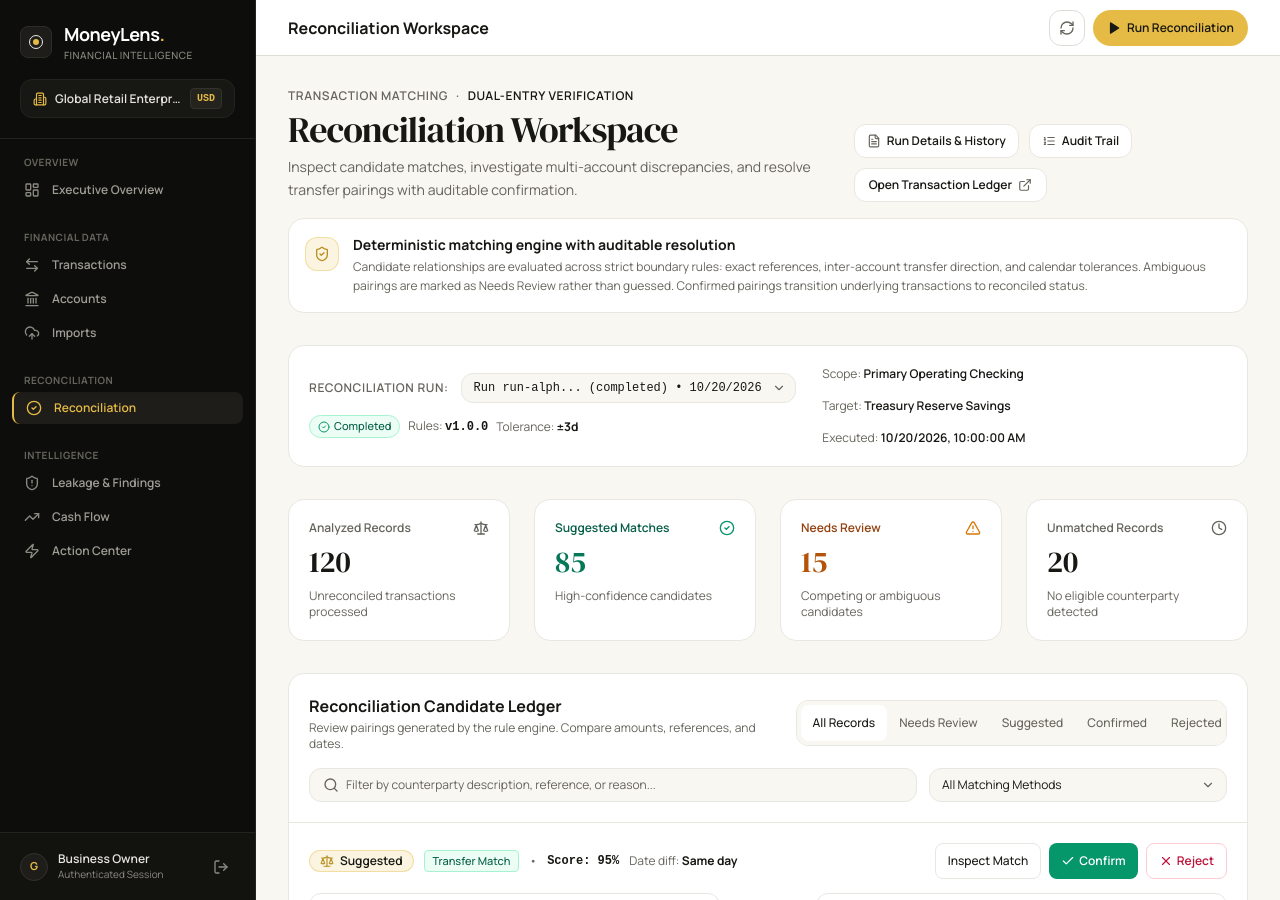
MoneyLens Reconciliation Workspace Page Component Suite › opens and renders Reconciliation Audit Trail drawer
Expected: the dropdown labelled "Reconciliation Run:" is shown, [461,373,796,403]
Click the button "Audit Trail".
click(1080, 140)  # box [1029,124,1132,158]
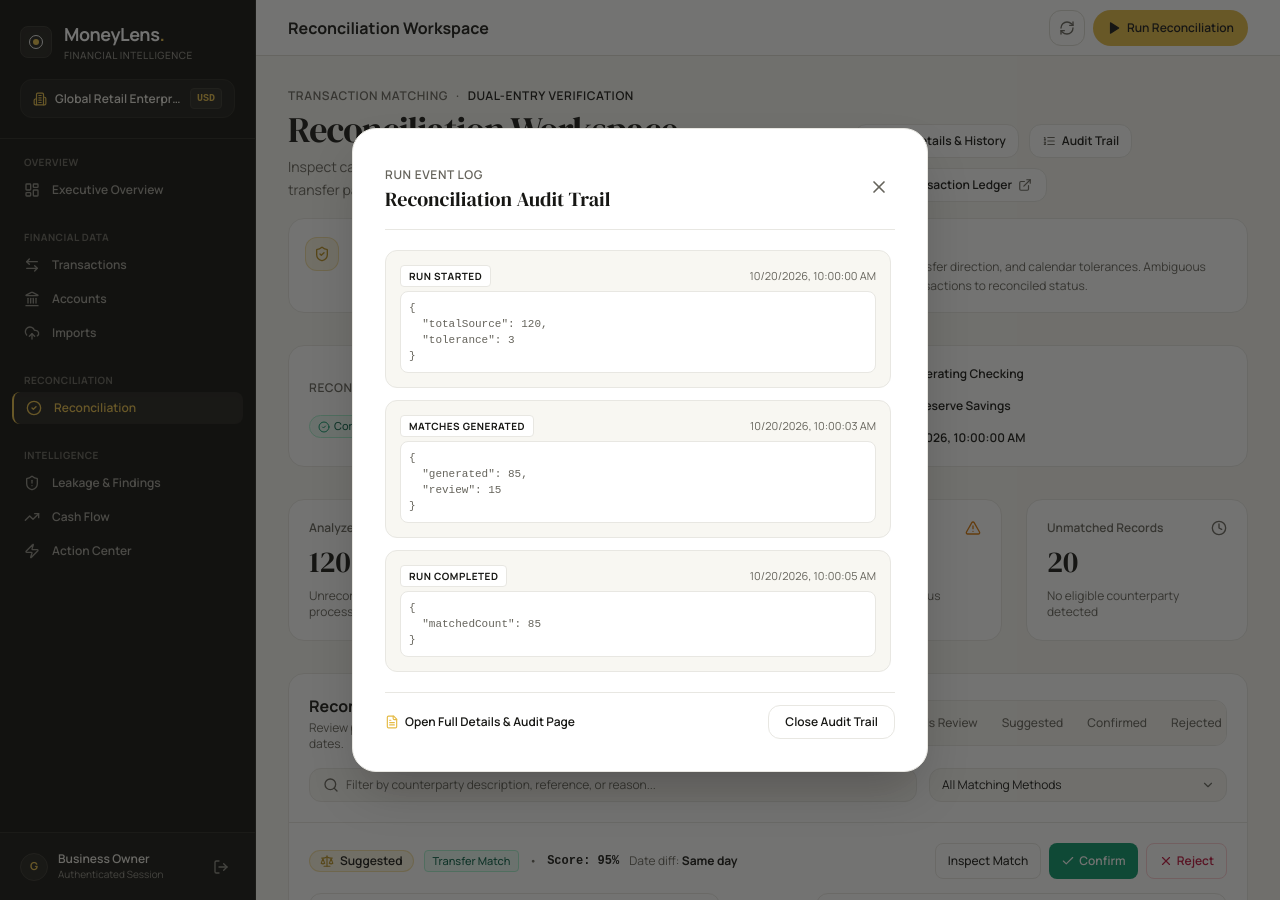
Now the heading "Reconciliation Audit Trail" is shown, box [385,185,610,213]
Now the text "run started" is shown, box [400,265,491,287]
Now the text "matches generated" is shown, box [400,415,534,437]
